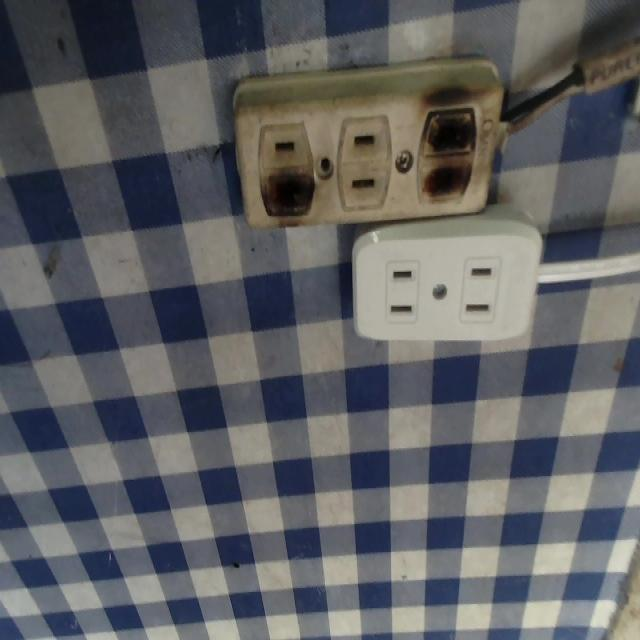-: (418, 96, 479, 204), (252, 170, 318, 222)
